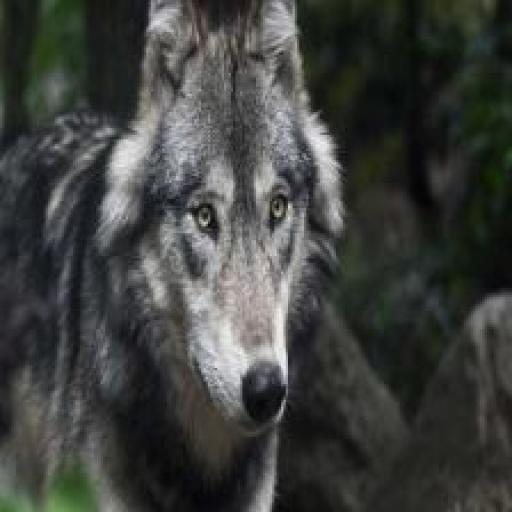wolf: (2, 0, 345, 512)
